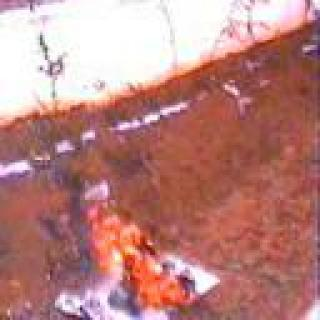fire: (74, 179, 213, 315)
